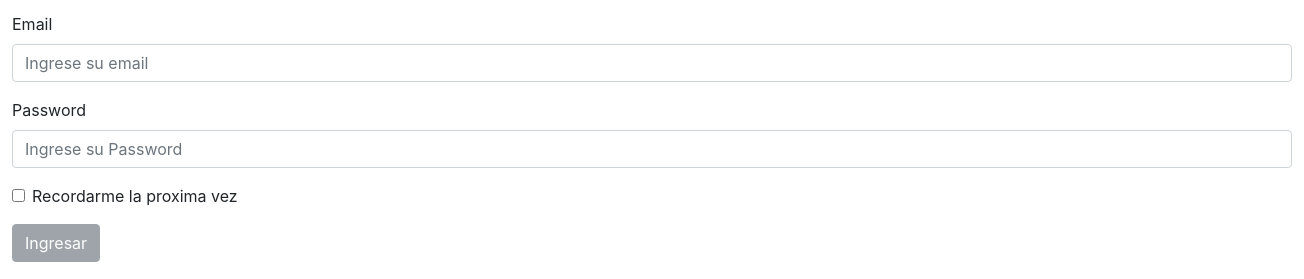
Test: The Login component › should show enabled the login button when user completes email or password
Type "pepe@email.com" into the field labelled "Email".
click(652, 63); type("pepe@email.com")  # box [12,44,1292,82]
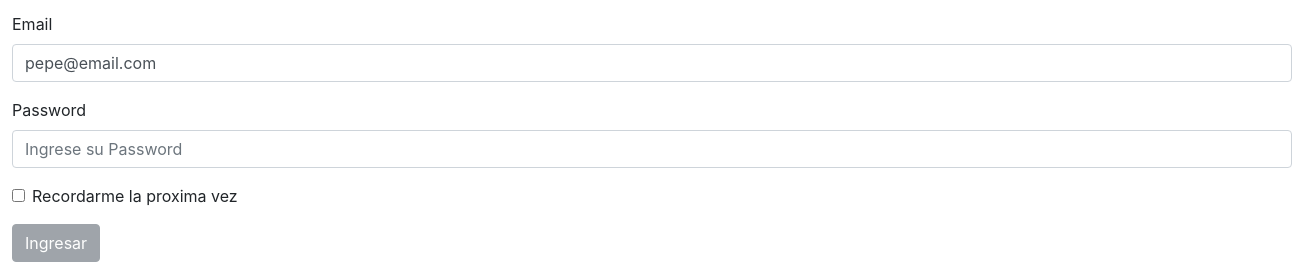
Type "tritri" into the password field labelled "Password".
click(652, 149); type("tritri")  # box [12,130,1292,168]
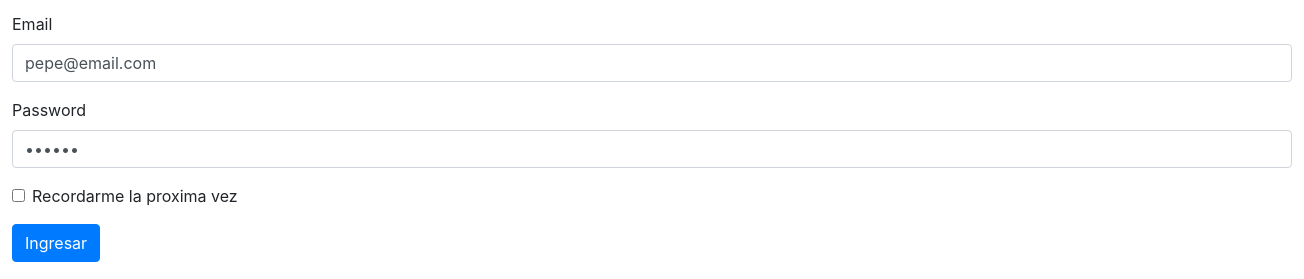
Expected: the button "Ingresar" is enabled, [12,224,100,262]
